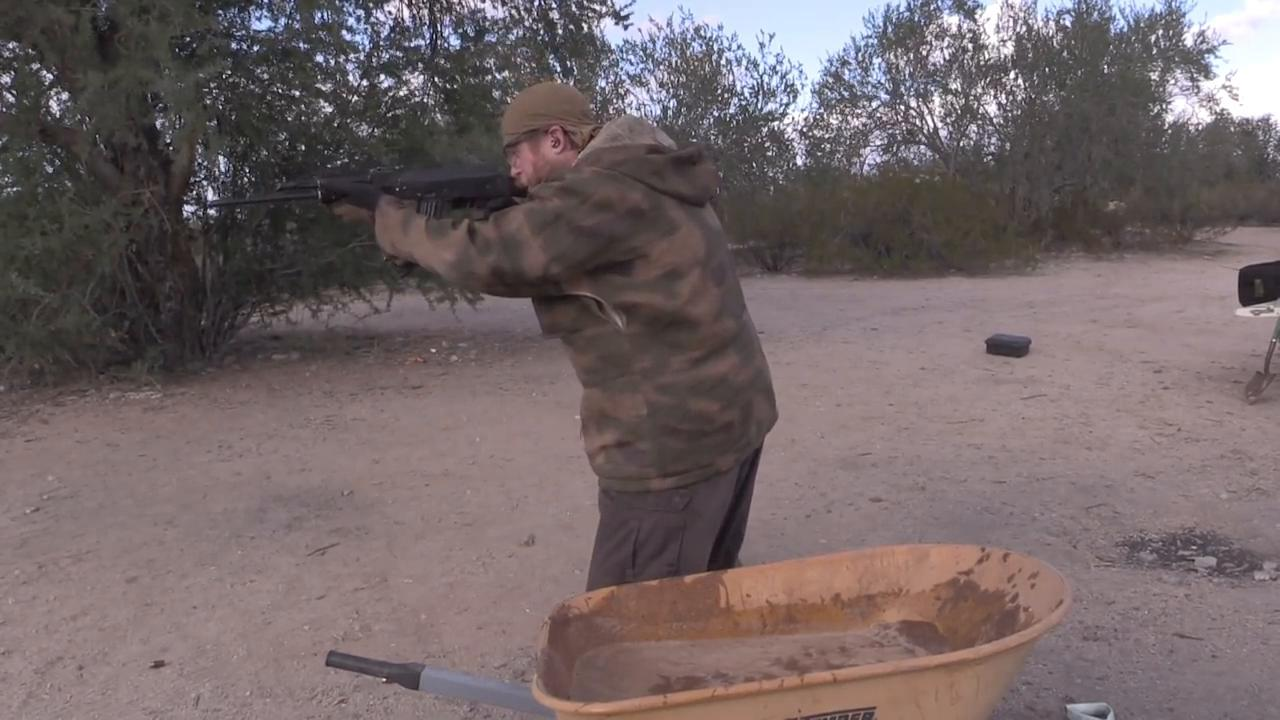AK47 Rifle: (199, 166, 525, 271)
